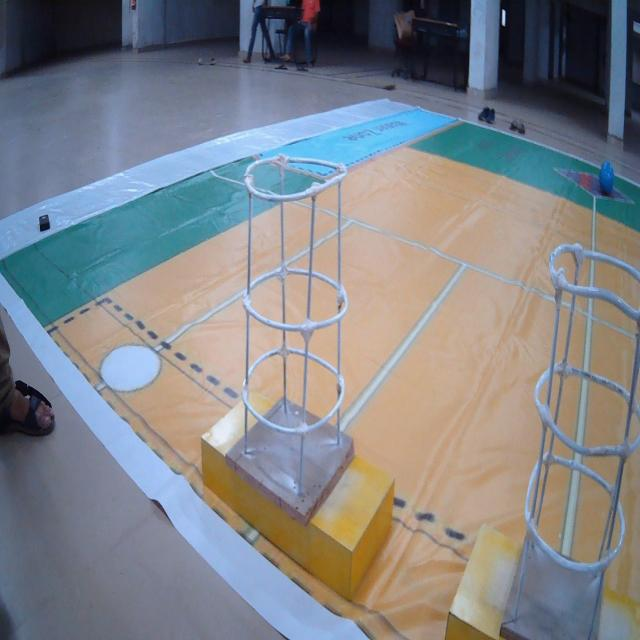silo: (500, 251, 640, 640), (235, 153, 357, 510)
